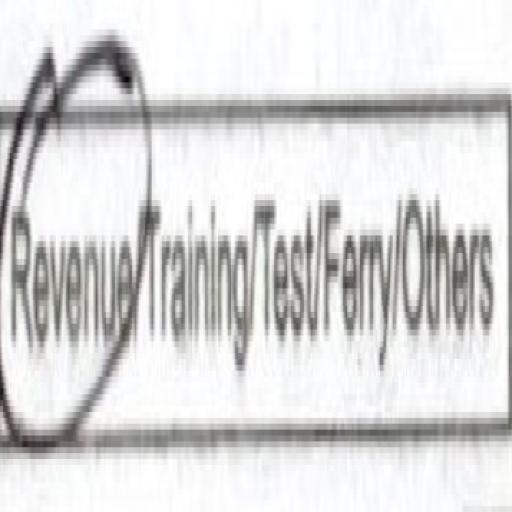check: (1, 8, 144, 494)
